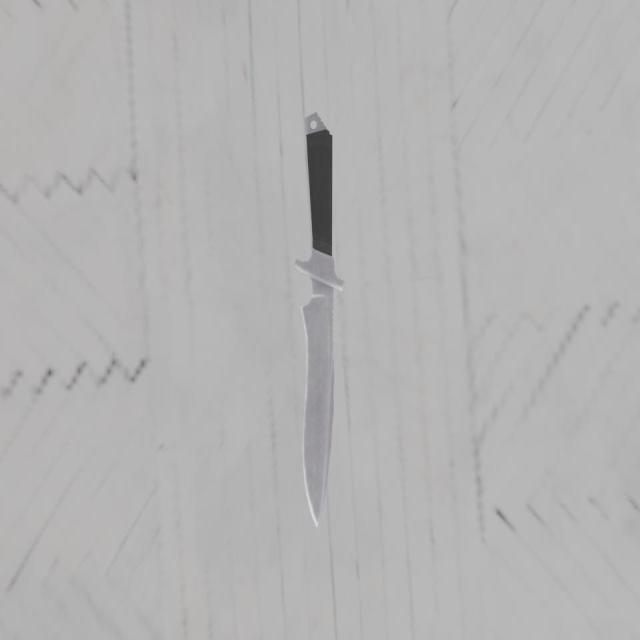knife: (305, 112, 332, 256)
